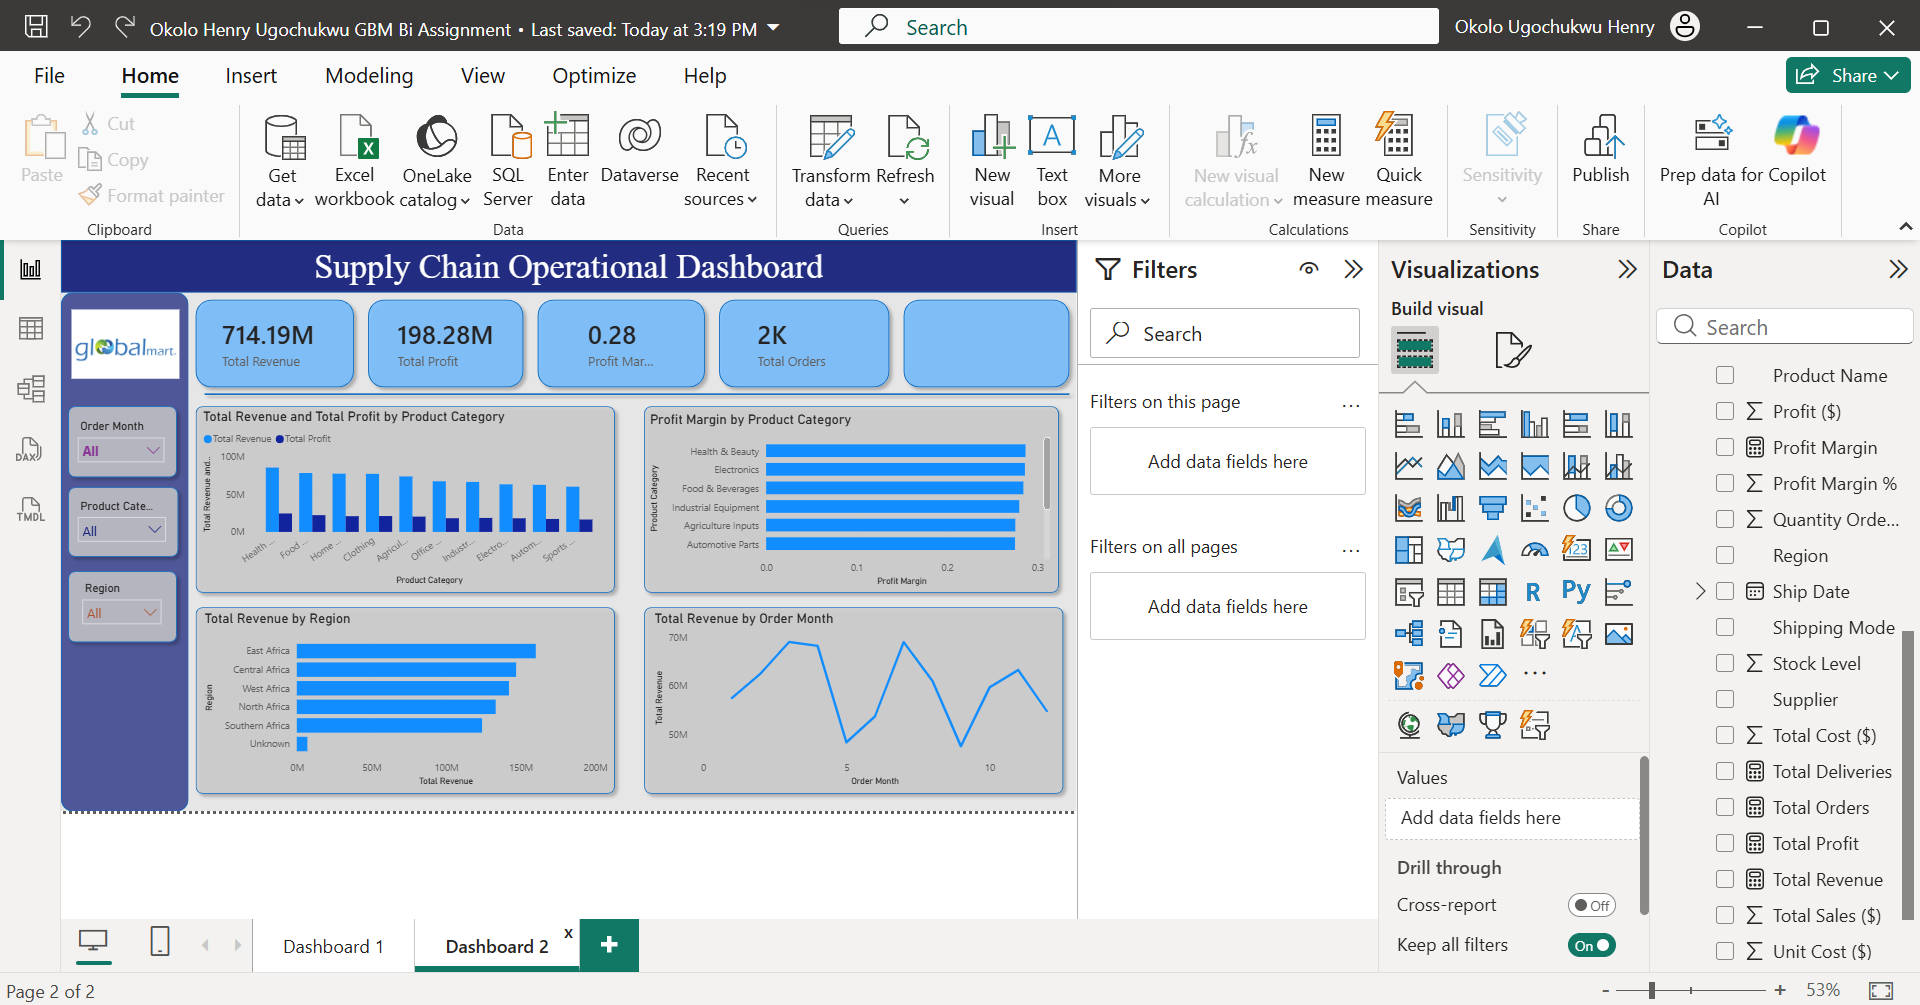

This screenshot's page, from the dashboard's own definition file:
{"tool":"powerbi","page":{"name":"Dashboard 2 ","canvas":[1280,720],"ordinal":1},"visuals":[{"type":"shape","box":[0,0,1279.4,720],"z":0},{"type":"shape","box":[160.7,200.3,546.1,253.2],"z":0,"group":"g1"},{"type":"shape","box":[0,0,1279.4,66.1],"z":1000},{"type":"shape","box":[725.7,200.3,540.5,253.2],"z":1000,"group":"g1"},{"type":"shape","box":[0,66.1,160.6,653.9],"z":2000},{"type":"shape","box":[160.7,453.5,546.1,253.2],"z":2000,"group":"g1"},{"type":"shape","box":[0,200.3,155,107.7],"z":3000},{"type":"shape","box":[725.7,453.5,546.1,253.2],"z":3000,"group":"g1"},{"type":"clusteredBarChart","fields":{"Category":["CleanedData.Product Category"],"Y":["CleanedData.Profit Margin"]},"box":[737.7,214.8,514,224.9],"z":4000,"group":"g1"},{"type":"shape","box":[0,408.2,155,107.7],"z":4000},{"type":"shape","box":[0,302.4,156.9,105.8],"z":5000},{"type":"shape","box":[160.6,66.1,217.3,128.5],"z":6000},{"type":"shape","box":[591.5,66.1,228.7,128.5],"z":7000},{"type":"shape","box":[820.2,66.1,232.4,128.5],"z":8000},{"type":"shape","box":[378,66.1,213.5,128.5],"z":9000},{"type":"shape","box":[1052.6,66.1,226.8,128.5],"z":10000},{"type":"image","box":[13.2,77.5,136.1,107.7],"z":11000},{"type":"cardVisual","fields":{"Data":["CleanedData.Total Revenue"]},"box":[173.9,75.6,204.1,107.7],"z":12000},{"type":"cardVisual","fields":{"Data":["CleanedData.Total Profit"]},"box":[395,77.5,181.4,105.8],"z":13000},{"type":"cardVisual","fields":{"Data":["CleanedData.Total Orders"]},"box":[848.5,75.6,175.7,107.7],"z":14000},{"type":"shape","box":[172,185.2,1107.4,15.1],"z":15000},{"type":"group","id":"g1","title":"Group 1","box":[11.8,200.3,1260.1,506.5],"z":16000},{"type":"clusteredColumnChart","fields":{"Category":["CleanedData.Product Category"],"Y":["CleanedData.Total Revenue","CleanedData.Total Profit"]},"box":[173.9,211.7,517.8,226.8],"z":17000},{"type":"clusteredBarChart","fields":{"Category":["CleanedData.Region"],"Y":["CleanedData.Total Revenue"]},"box":[175.7,466.8,517.8,224.9],"z":18000},{"type":"lineChart","fields":{"Category":["CleanedData.Order Month"],"Y":["CleanedData.Total Revenue"]},"box":[742.7,466.8,514,224.9],"z":19000},{"type":"slicer","fields":{"Values":["CleanedData.Region"]},"box":[17,425.2,119.1,75.6],"z":20000},{"type":"slicer","fields":{"Values":["CleanedData.Order Month"]},"box":[11.3,221.1,128.5,68],"z":21000},{"type":"slicer","fields":{"Values":["CleanedData.Product Category"]},"box":[11.8,320.6,130.4,69.9],"z":21001,"group":"g1"},{"type":"cardVisual","fields":{"Data":["CleanedData.Profit Margin"]},"box":[635,75.6,143.6,107.7],"z":22000}]}

Visuals, with their boxes on the page's 1280x720 design canvas (x1, y1, x2, y2). These are canvas units, not pixel positions in the 1920x1005 screenshot, which may show the page scaled, cropped or inside an application window:
shape: 0/0/1279/720
shape: 161/200/707/454
shape: 0/0/1279/66
shape: 726/200/1266/454
shape: 0/66/161/720
shape: 161/454/707/707
shape: 0/200/155/308
shape: 726/454/1272/707
clusteredBarChart - CleanedData.Product Category x CleanedData.Profit Margin: 738/215/1252/440
shape: 0/408/155/516
shape: 0/302/157/408
shape: 161/66/378/195
shape: 592/66/820/195
shape: 820/66/1053/195
shape: 378/66/592/195
shape: 1053/66/1279/195
image: 13/78/149/185
cardVisual - CleanedData.Total Revenue: 174/76/378/183
cardVisual - CleanedData.Total Profit: 395/78/576/183
cardVisual - CleanedData.Total Orders: 848/76/1024/183
shape: 172/185/1279/200
"Group 1" group: 12/200/1272/707
clusteredColumnChart - CleanedData.Product Category x CleanedData.Total Revenue: 174/212/692/438
clusteredBarChart - CleanedData.Region x CleanedData.Total Revenue: 176/467/694/692
lineChart - CleanedData.Order Month x CleanedData.Total Revenue: 743/467/1257/692
slicer - CleanedData.Region: 17/425/136/501
slicer - CleanedData.Order Month: 11/221/140/289
slicer - CleanedData.Product Category: 12/321/142/390
cardVisual - CleanedData.Profit Margin: 635/76/779/183
